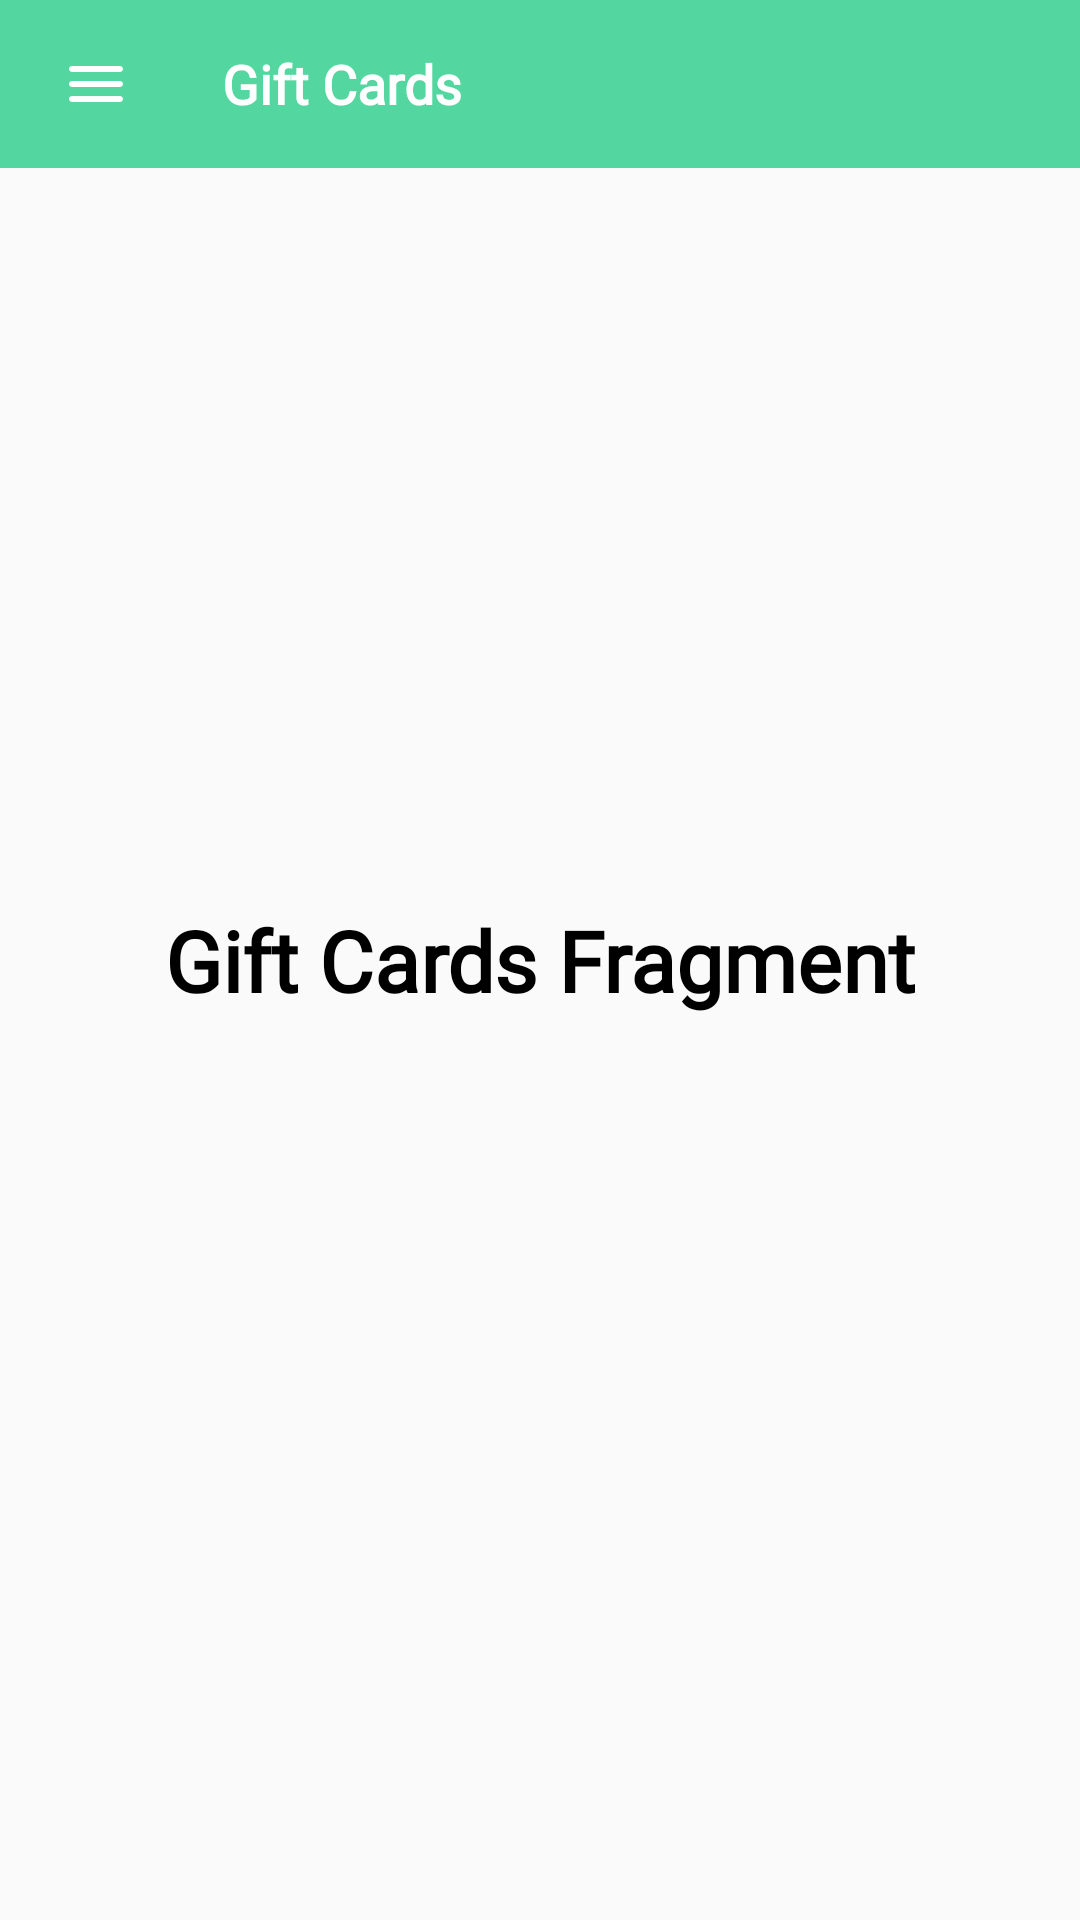

Screen size 1080x1920. Icon name, then its center in pixels as [x,y]:
ham menu: [96,84]
